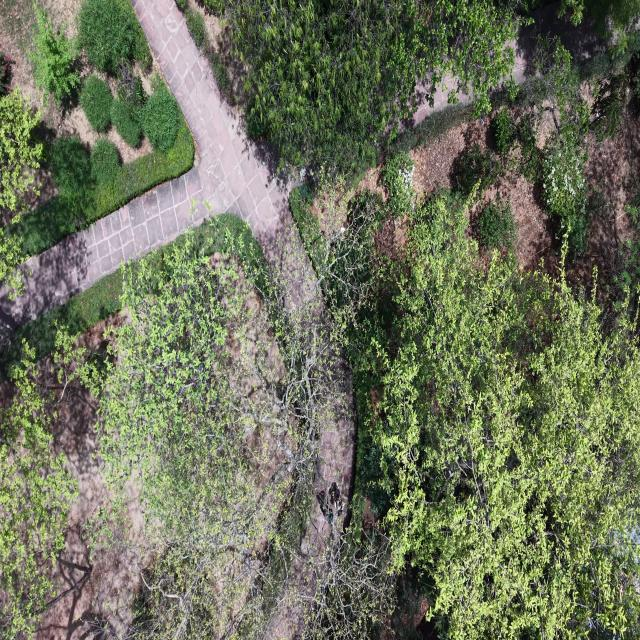DRY_AREA: (0, 0, 321, 325), (0, 0, 320, 325), (0, 0, 312, 327), (0, 0, 290, 328), (132, 0, 321, 304), (508, 0, 606, 85)
PATHWAYS: (0, 0, 304, 327), (0, 0, 300, 328), (0, 0, 289, 327)
VEGETATION_TREE: (0, 2, 639, 639), (93, 157, 639, 638), (292, 187, 639, 638), (38, 216, 393, 638), (0, 216, 314, 638), (353, 192, 639, 638), (99, 226, 392, 638), (100, 240, 299, 638), (0, 0, 193, 294), (207, 0, 518, 170), (452, 37, 639, 259), (0, 86, 193, 292), (6, 65, 193, 261), (454, 38, 600, 256), (228, 0, 417, 168), (0, 331, 94, 639), (290, 153, 419, 349), (8, 120, 194, 255), (0, 351, 75, 638), (290, 173, 397, 344), (0, 270, 122, 381), (0, 271, 121, 381), (412, 0, 521, 116), (536, 41, 589, 254), (299, 527, 395, 639), (92, 114, 194, 219), (79, 0, 150, 146), (452, 108, 539, 197), (530, 37, 590, 146), (176, 0, 235, 104), (0, 88, 44, 223), (541, 127, 587, 254), (0, 88, 44, 211), (78, 0, 150, 73), (30, 6, 80, 104), (591, 43, 639, 139), (386, 102, 473, 154), (50, 137, 93, 232), (614, 176, 639, 303), (140, 80, 183, 151), (559, 0, 639, 35), (592, 70, 633, 138), (50, 137, 90, 200), (455, 144, 501, 196), (473, 196, 516, 250), (383, 153, 414, 215), (80, 75, 112, 132), (516, 110, 541, 181), (0, 228, 23, 298), (207, 48, 235, 105), (111, 99, 141, 147), (116, 64, 146, 108), (91, 139, 119, 185), (492, 109, 516, 155), (132, 18, 151, 71), (185, 9, 207, 47), (0, 52, 12, 96), (176, 0, 186, 12)
